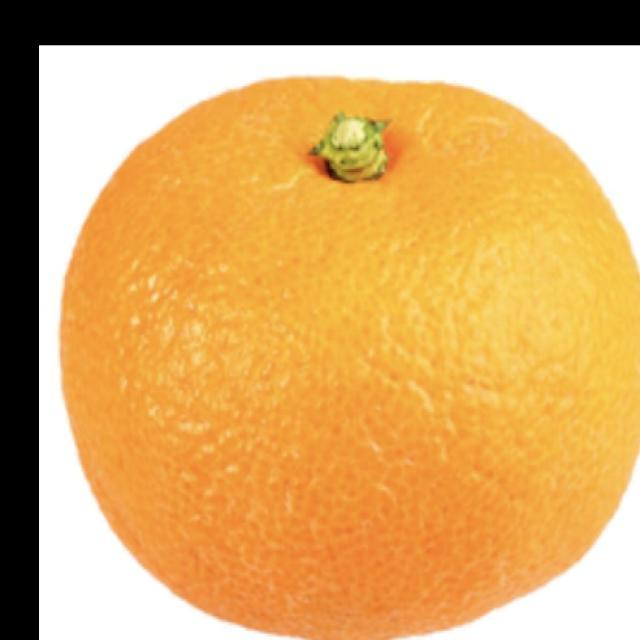Orange: (58, 74, 639, 639)
